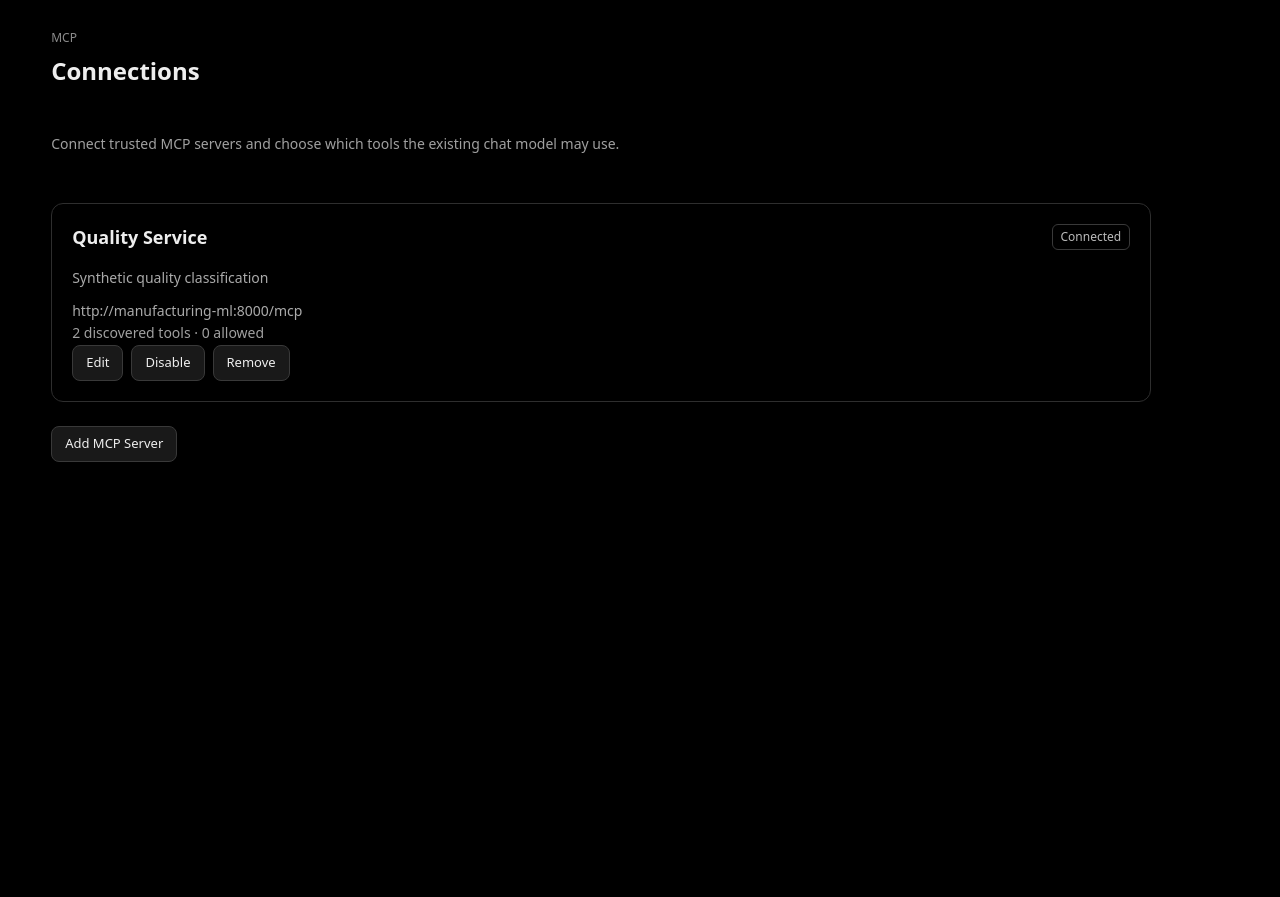
Test: saved connections discover schemas, explicitly allow read/write tools and disconnect
The width and height of the screenshot is (1280, 897).
Click the button "Edit": (98, 363) [72, 345, 124, 381]
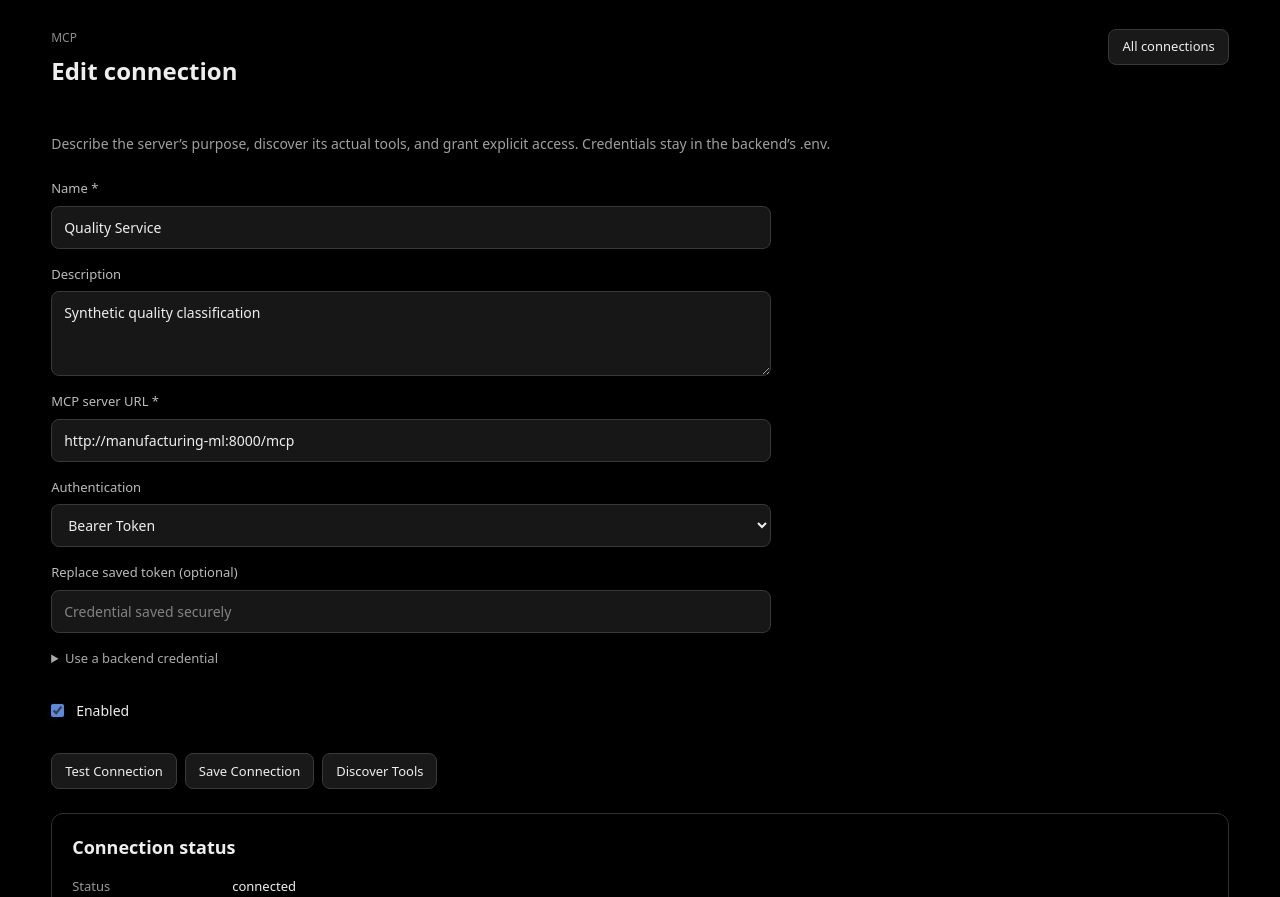
Click the button "Discover Tools": (380, 771) [322, 753, 437, 789]
(page scrolled)
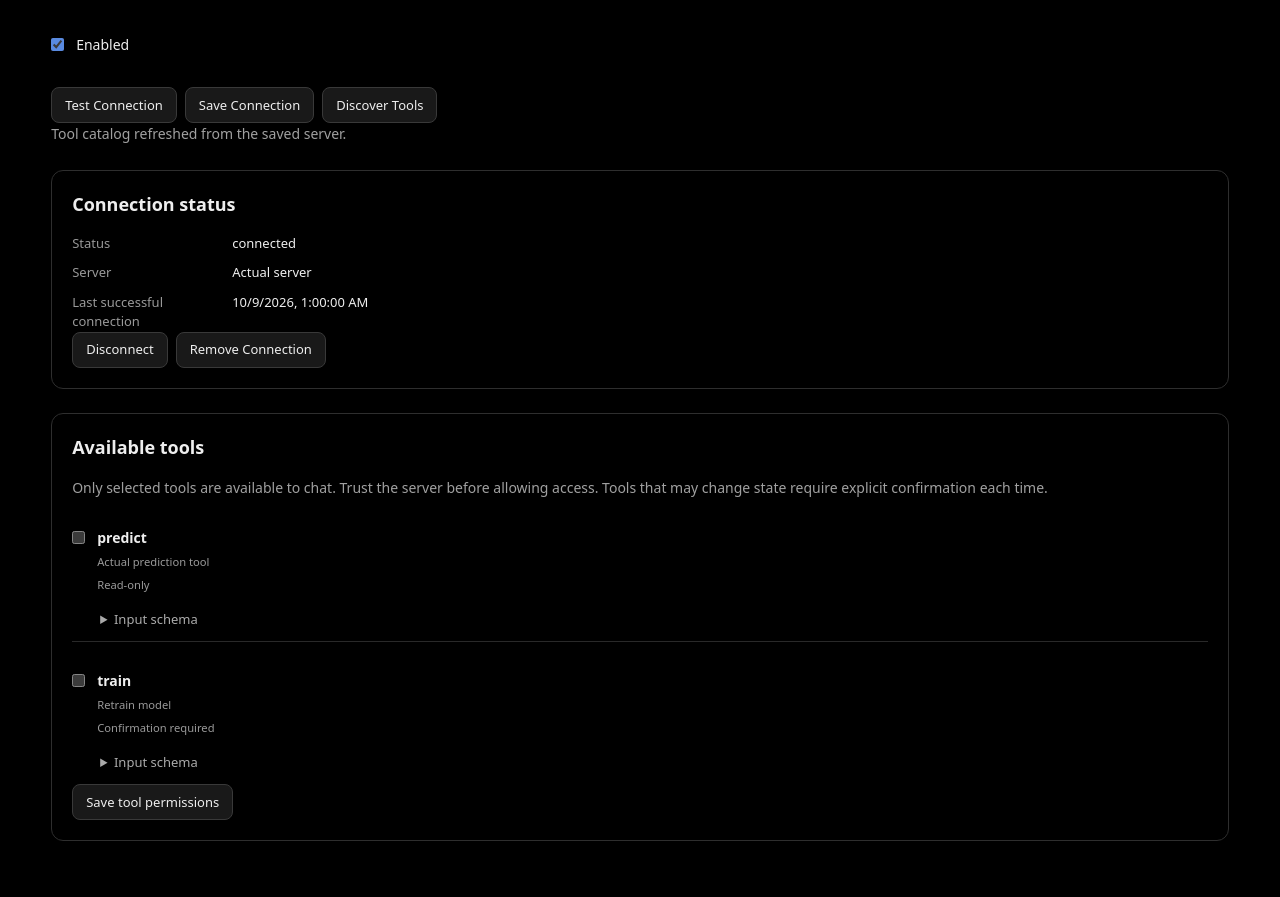
Click the checkbox named "Allow predict": (79, 538) [72, 531, 85, 544]
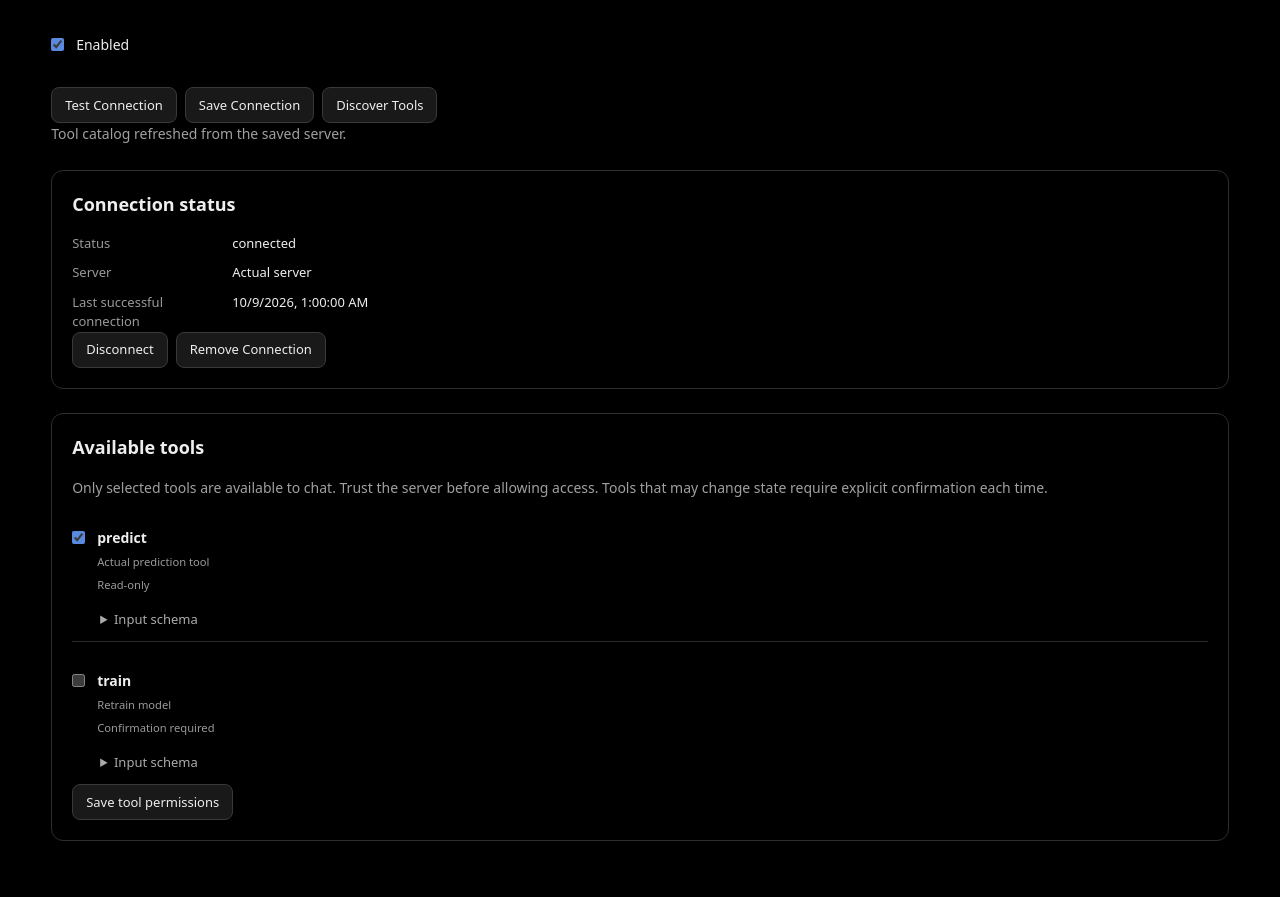
Click the checkbox named "Allow train": (79, 681) [72, 674, 85, 687]
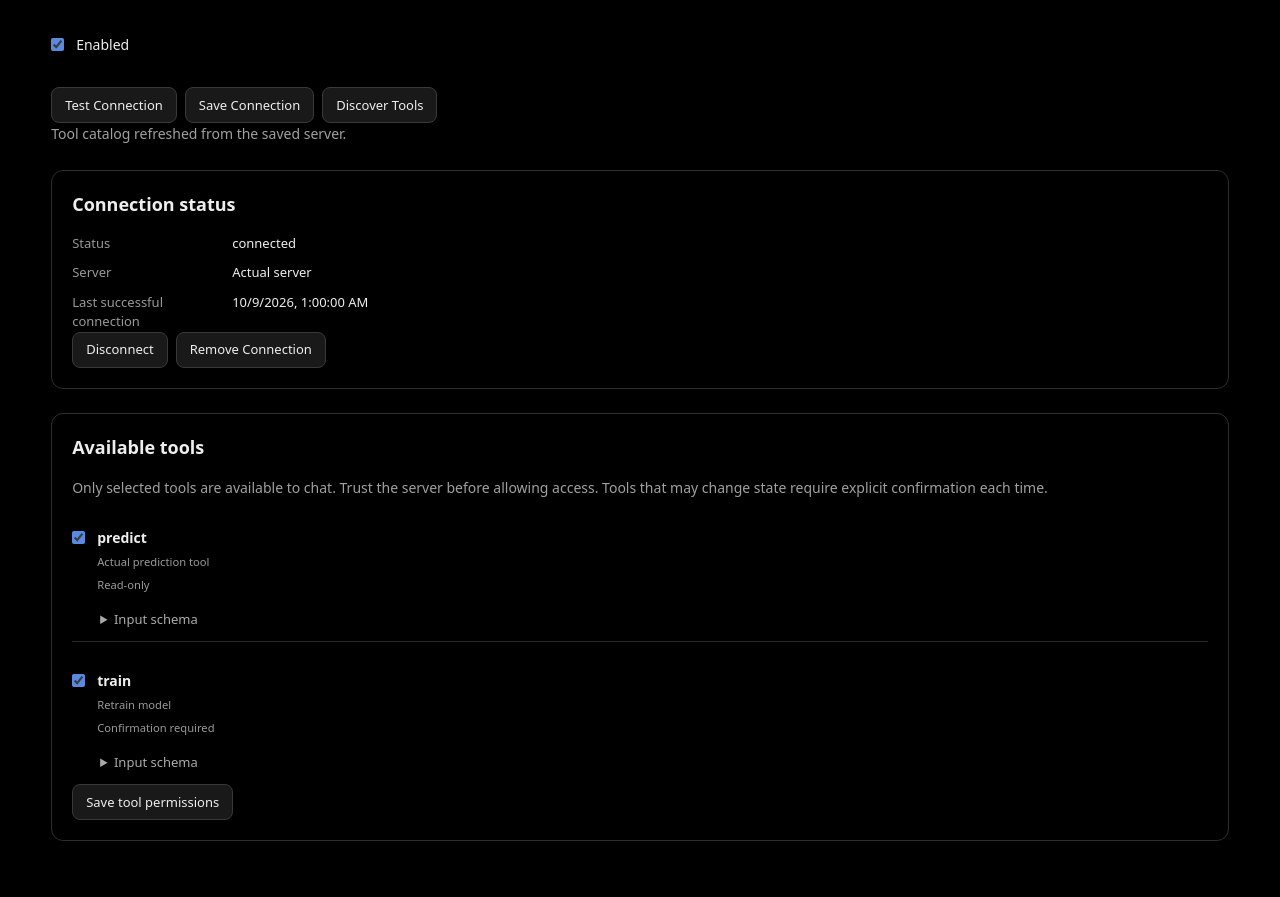
Click the button "Save tool permissions": (153, 802) [72, 784, 233, 820]
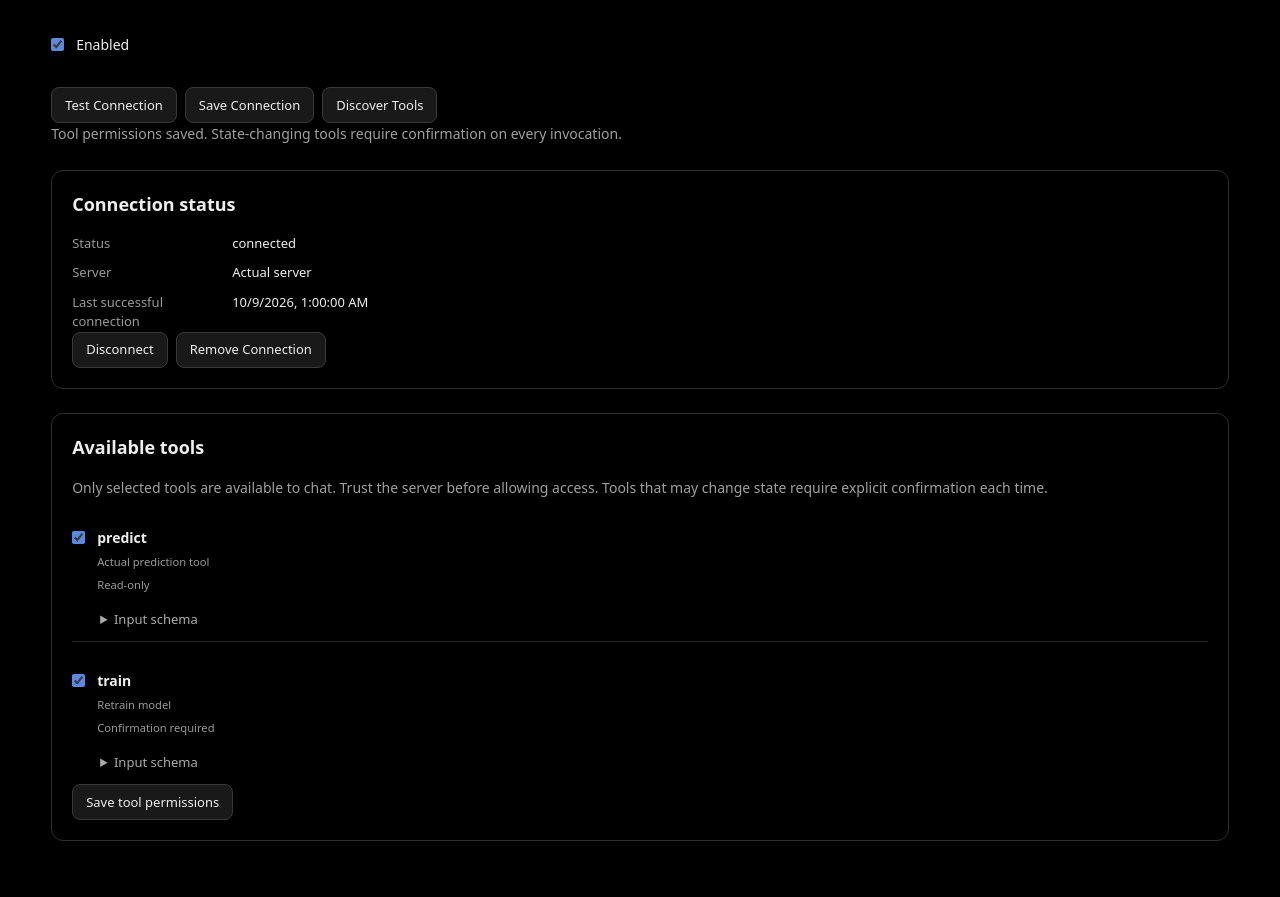
Expected: the number of headings "Input schema" is 2, [114, 610, 198, 628]; [114, 753, 198, 771]
Click the button "Disconnect": (120, 350) [72, 332, 168, 368]
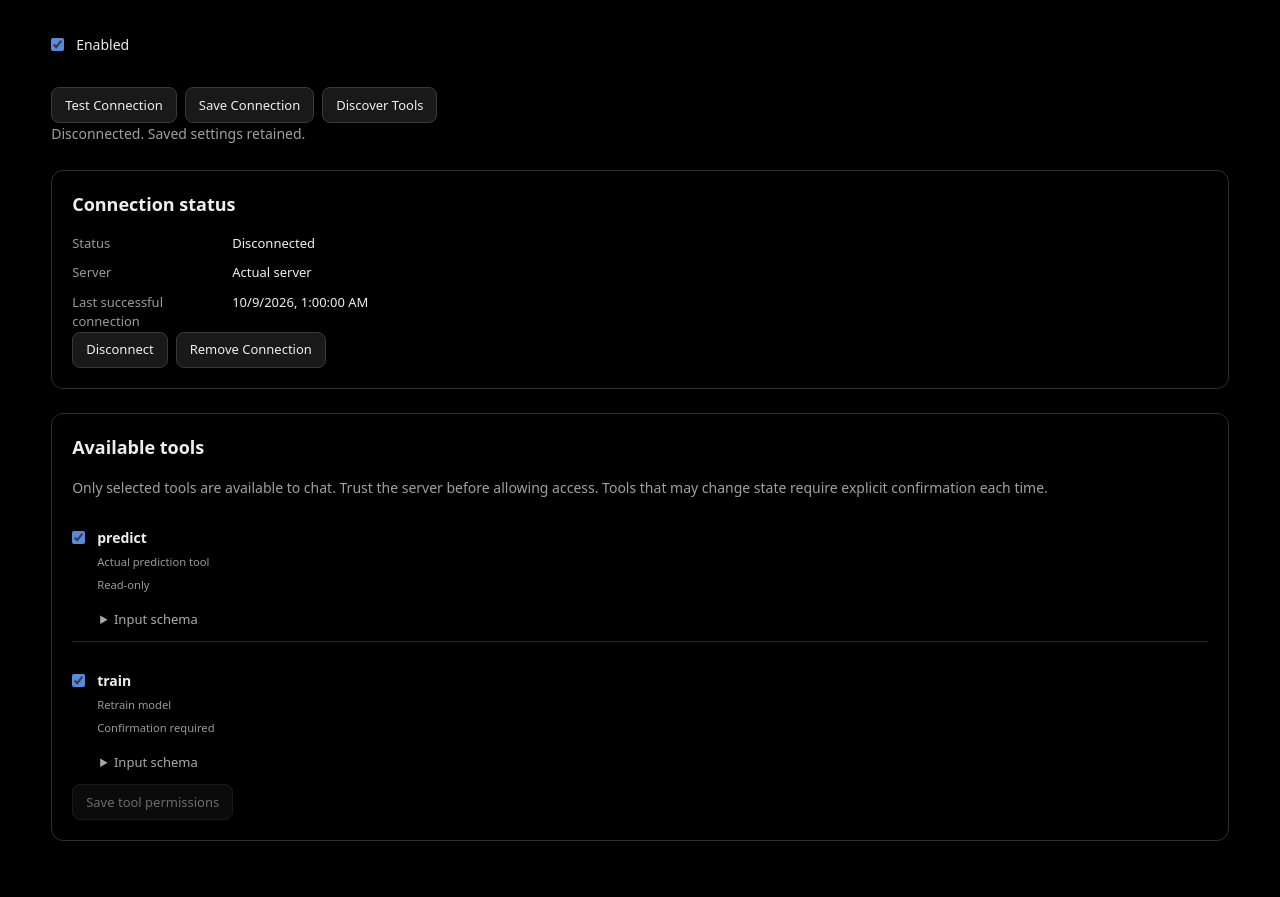
Expected: the text "Disconnected" is shown, [232, 234, 315, 252]
